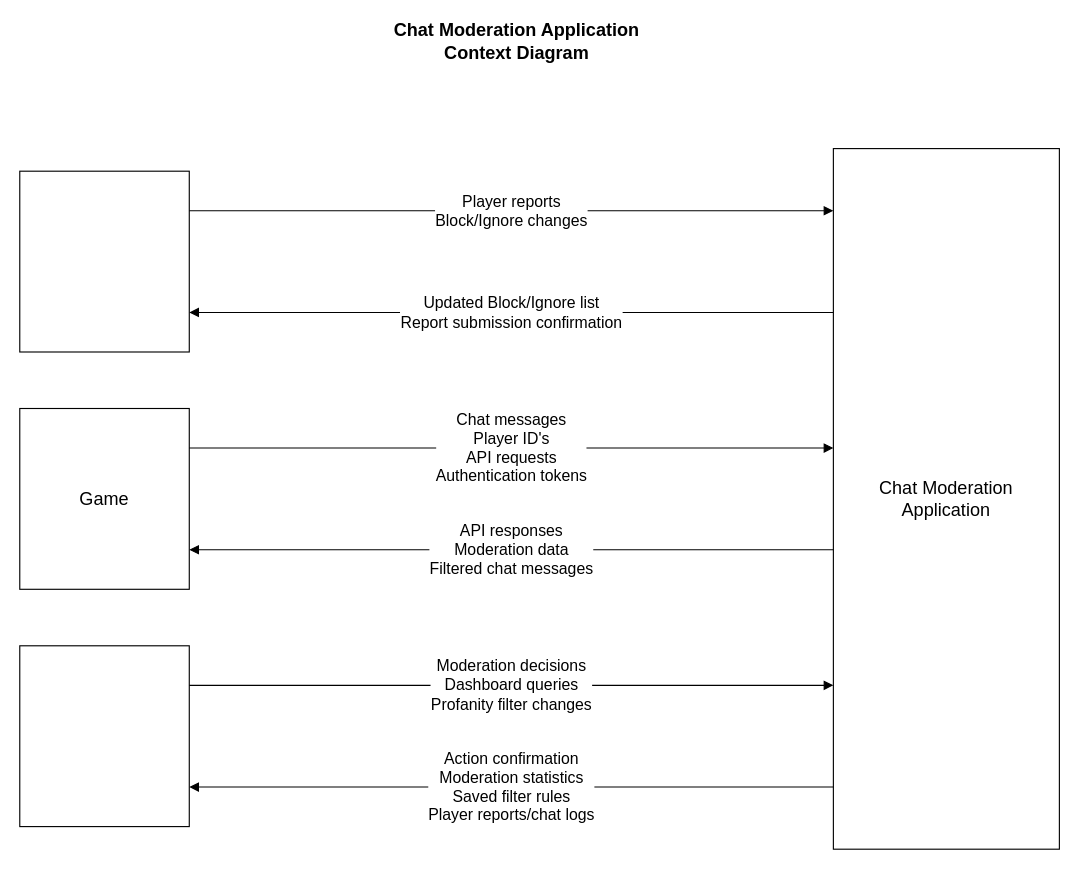
Some shapes in this 1079 by 869 pixel diagram are drawn without their labels. Each missing label, with the centre of its shape:
"Game Moderator" belongs at pixel 104 736.
"Player" belongs at pixel 104 261.
